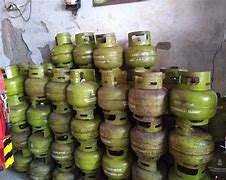gas_ijo: (171, 71, 217, 126), (128, 74, 170, 122), (169, 124, 215, 165), (97, 69, 131, 114), (66, 69, 99, 112), (122, 32, 158, 69), (129, 123, 167, 157), (93, 32, 122, 68), (100, 115, 132, 147), (44, 69, 72, 105), (100, 147, 130, 180), (72, 32, 97, 67), (75, 141, 103, 170), (131, 157, 166, 180), (49, 33, 73, 66), (27, 127, 52, 158), (26, 66, 50, 98), (50, 104, 73, 136), (171, 164, 217, 180), (72, 112, 100, 137), (52, 136, 76, 165), (2, 66, 25, 95), (26, 101, 49, 128), (10, 148, 33, 173), (30, 158, 55, 180), (7, 97, 28, 122), (9, 122, 28, 147), (53, 163, 76, 180)
